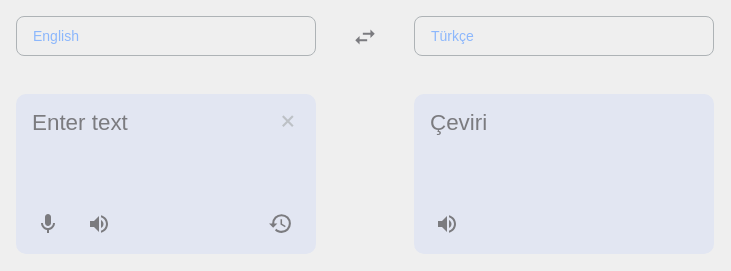
Test: App › clicking on arrows changes language input <-> output
This screenshot has width=731, height=271.
What coordinates should you click on to do the following:
click the element with test id "arrow-container"
I would click on:
 (365, 37)
Its box is [352,24,378,50].
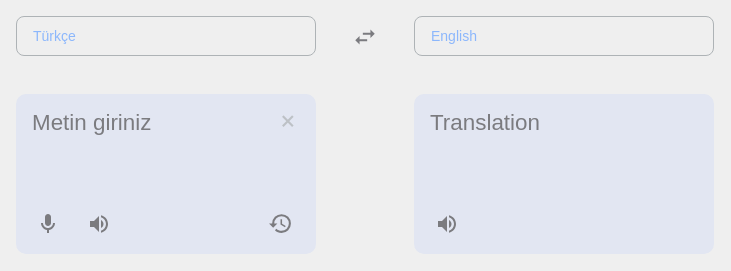
Check: the 1st field showing "English" holds "Türkçe", box [16,16,316,56]
Check: the 2nd field showing "Türkçe" holds "English", box [414,16,714,56]
What coordinates should you click on to do the following:
click the element with test id "arrow-container"
I would click on:
 (365, 37)
Its box is [352,24,378,50].
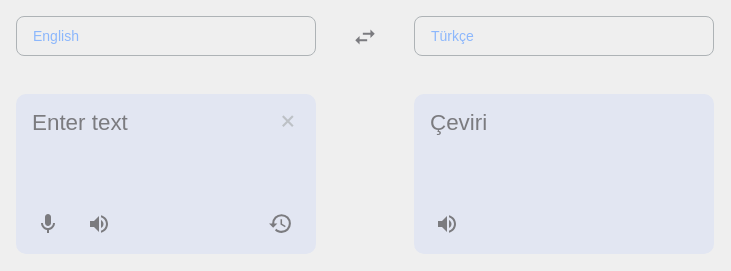
Check: the 1st field showing "English" holds "English", box [16,16,316,56]
Check: the 2nd field showing "Türkçe" holds "Türkçe", box [414,16,714,56]
